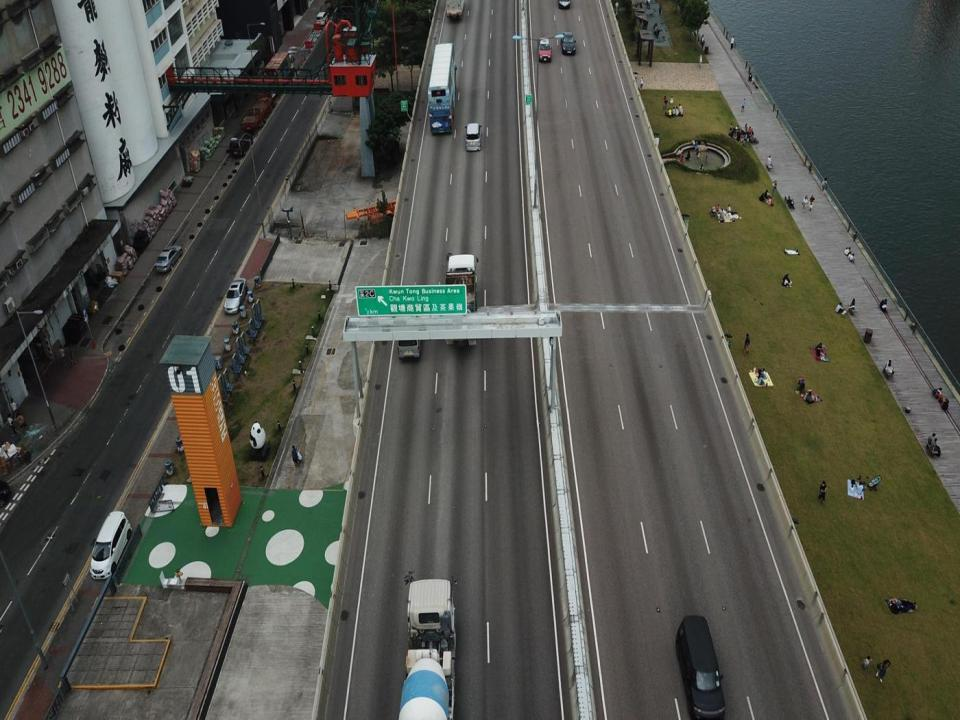bus: (426, 42, 458, 135)
car: (88, 510, 132, 580), (223, 278, 248, 313), (155, 245, 182, 272), (230, 132, 251, 157), (560, 30, 578, 56), (537, 37, 553, 62)
truck: (397, 568, 458, 719), (444, 251, 480, 346)
van: (675, 615, 725, 719), (396, 310, 421, 361), (462, 120, 484, 152)
